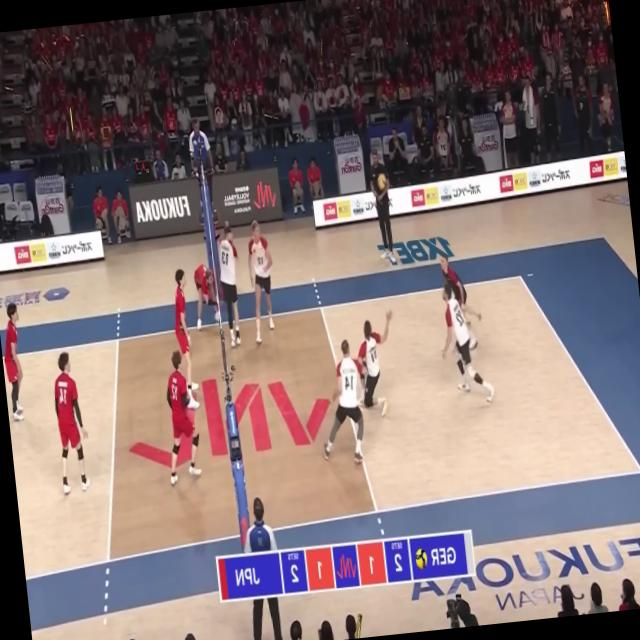referee: (237, 493, 290, 640)
team_one: (312, 337, 376, 468), (435, 281, 496, 408), (349, 304, 403, 420), (242, 218, 281, 344), (437, 249, 478, 355), (214, 227, 248, 351)
team_two: (47, 349, 95, 496), (156, 348, 204, 484), (169, 267, 201, 410), (0, 301, 30, 421), (191, 262, 219, 330)
